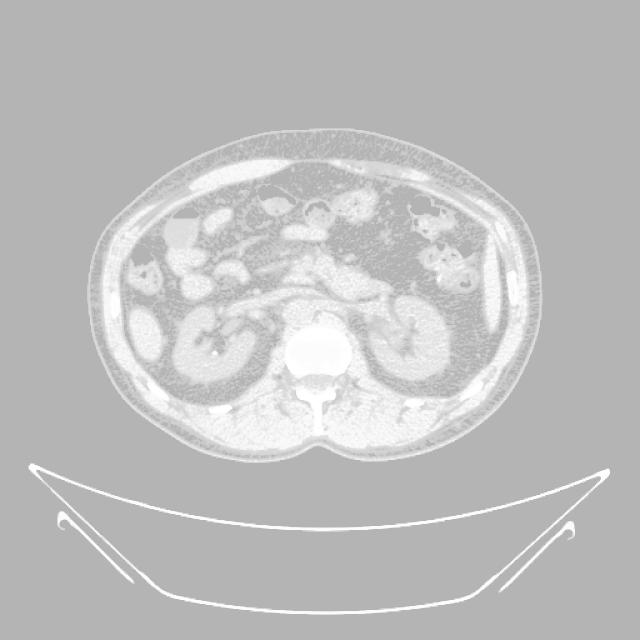STONE: (134, 175, 462, 271)
